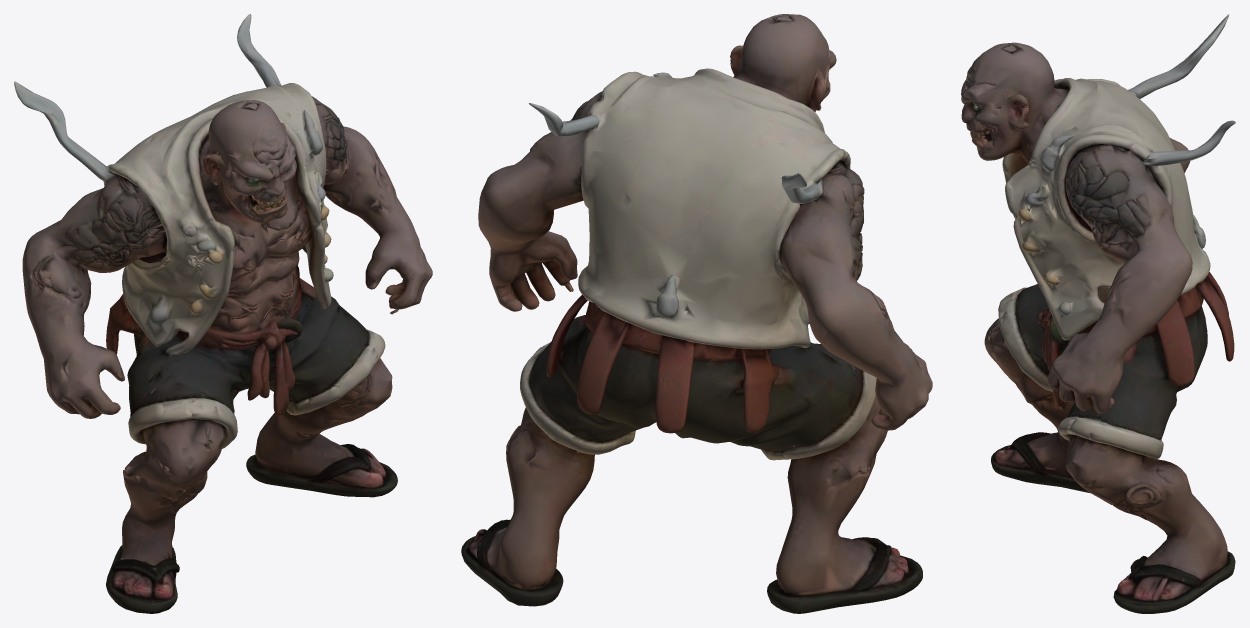
File: mob_chishige.glb
3 renders of one model, left to right at view 1: azimuth 30°, elevation 25°; view 2: azimuth 150°, elevation 25°; view 3: azimuth 270°, elevation 25°, orthographic. The views are drawn at different scales.
Visible parts, largest first — view 1: tripo_node_4de60f78-ce10-444a-bf18-9b18b65e939d; view 2: tripo_node_4de60f78-ce10-444a-bf18-9b18b65e939d; view 3: tripo_node_4de60f78-ce10-444a-bf18-9b18b65e939d.
Part boxes in pixels (<box>): tripo_node_4de60f78-ce10-444a-bf18-9b18b65e939d: <box>14,14,432,613</box>; tripo_node_4de60f78-ce10-444a-bf18-9b18b65e939d: <box>461,14,932,613</box>; tripo_node_4de60f78-ce10-444a-bf18-9b18b65e939d: <box>961,14,1235,613</box>.
Size of the model in its own units: 0.8139 by 0.9785 by 0.5204.
1 material, 1 textured.
